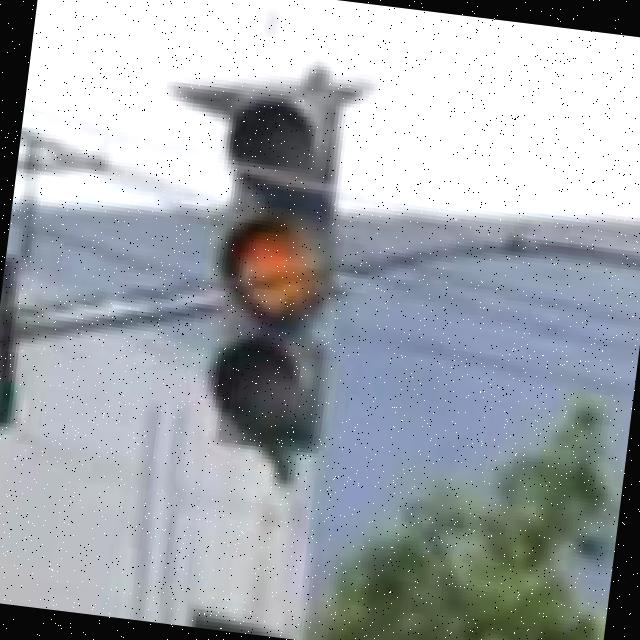Zolte swiatlo: (190, 82, 366, 458)
